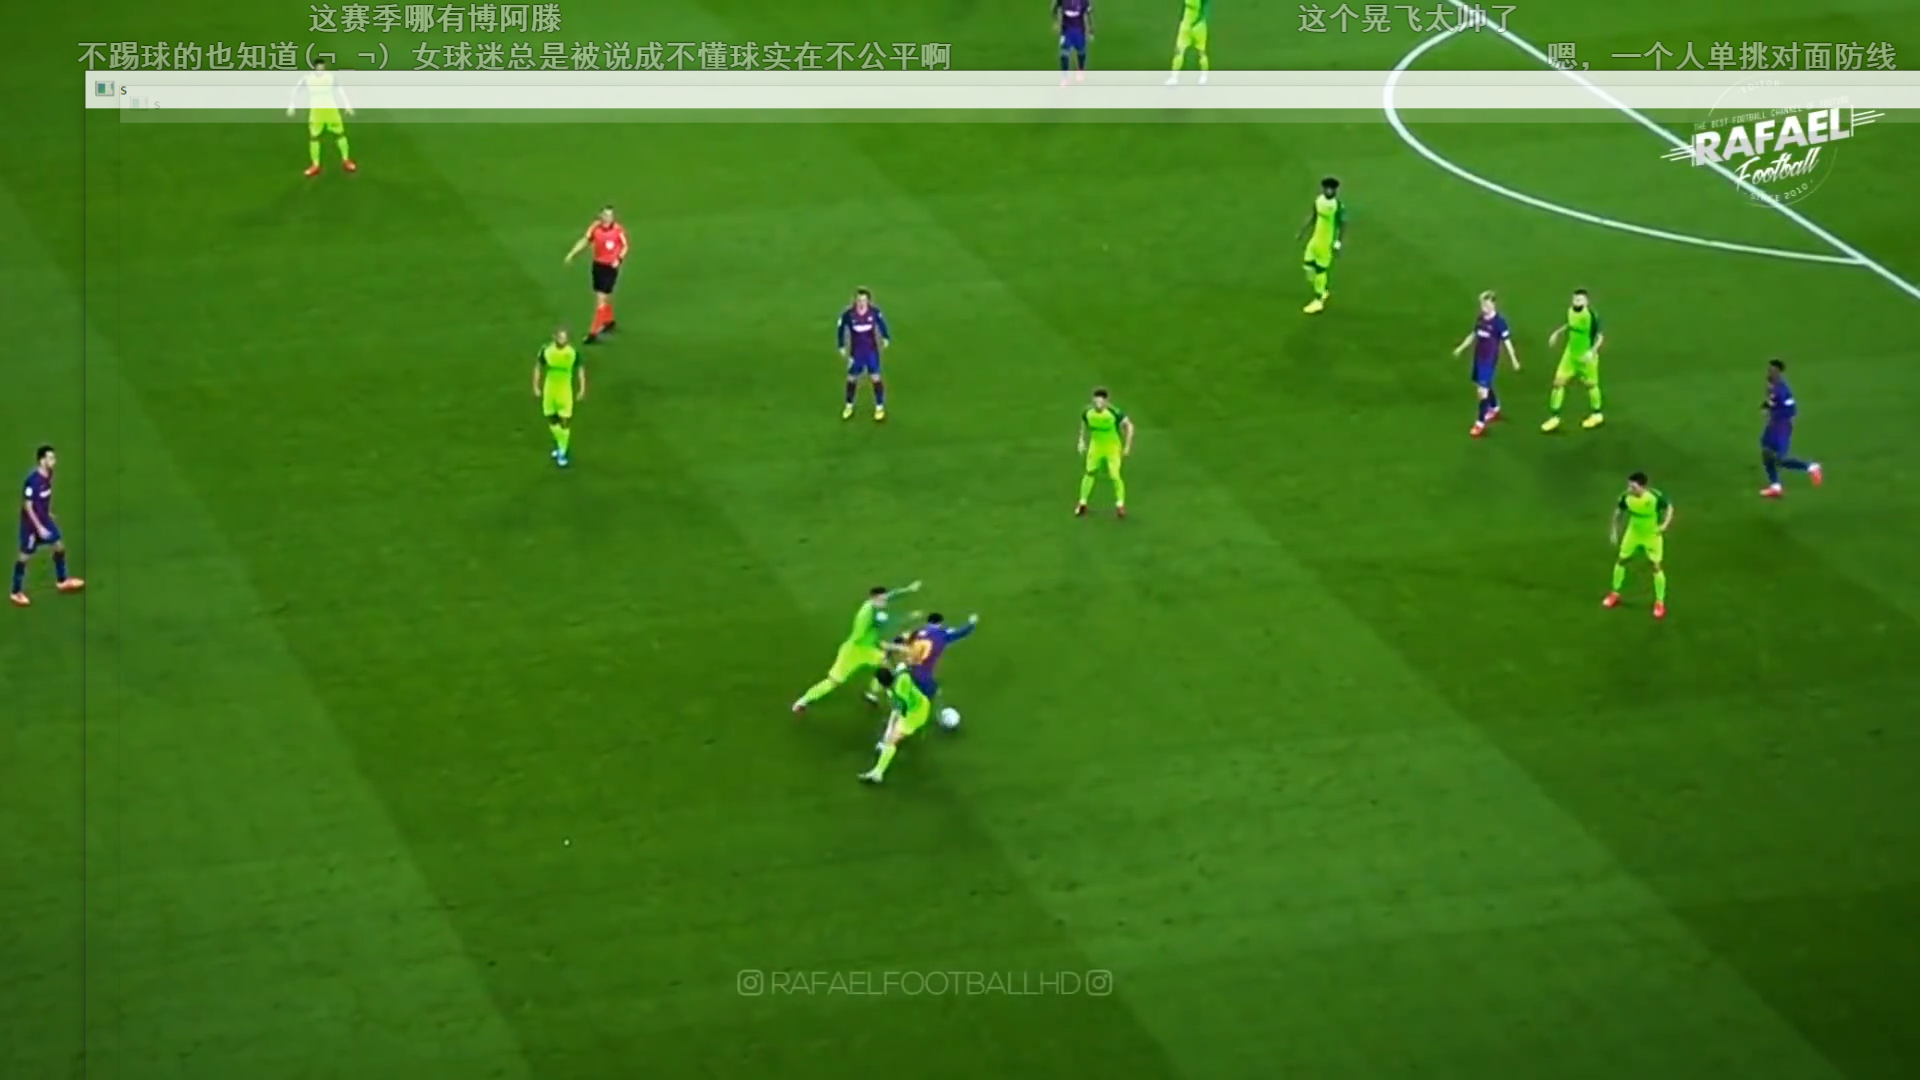ft: (935, 705, 963, 733)
